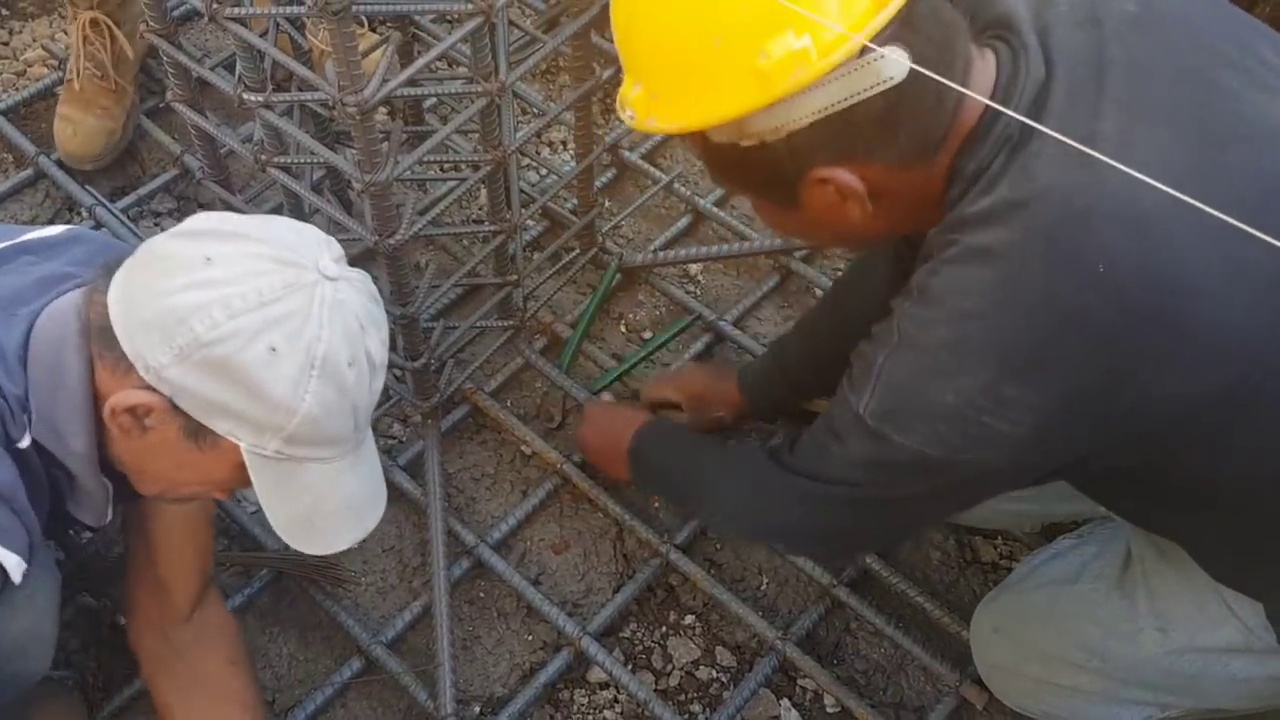helmet: (589, 3, 909, 149)
helmet-off: (82, 211, 402, 539)
helmet-on: (588, 5, 1030, 255)
person: (589, 0, 1280, 720), (0, 207, 409, 718)
